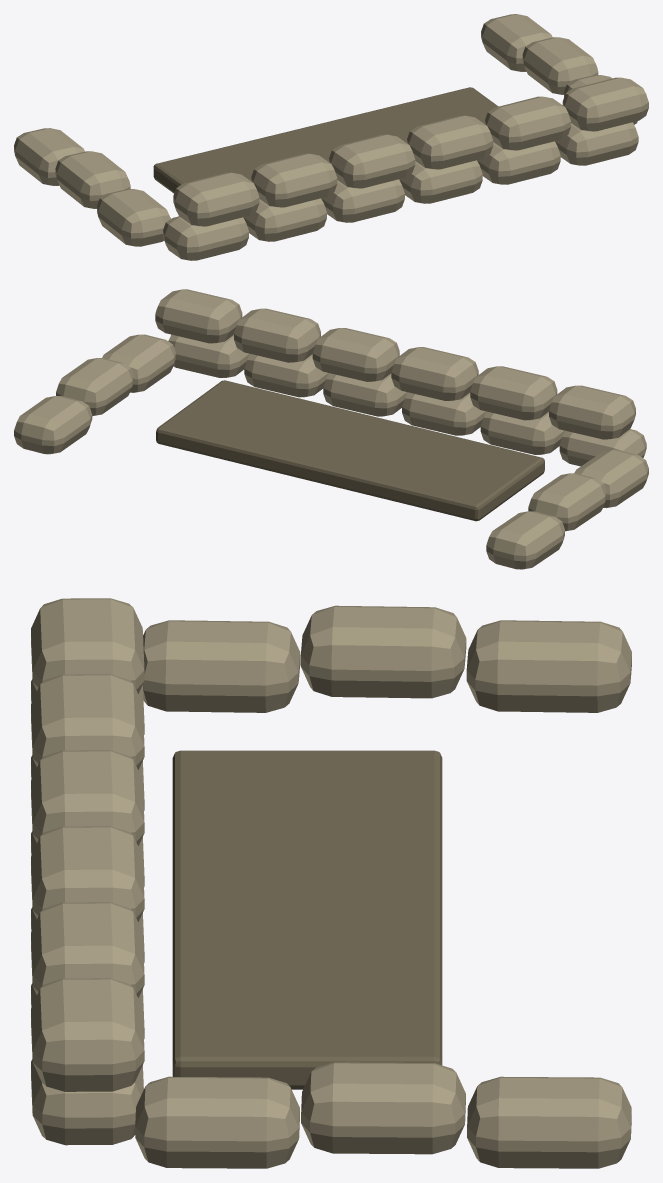
Rendered from ff_sbg_01_v1.glb.
3 views of the same model, one above another, from view 1: azimuth 30°, elevation 25°; view 2: azimuth 150°, elevation 25°; view 3: azimuth 270°, elevation 25° (orthographic). The views are drawn at different scales.
Visible parts, largest first — view 1: firing_step, front_bag_1_0, front_bag_1_2, front_bag_1_3, front_bag_1_5, front_bag_1_1, front_bag_1_4, left_bag_0, right_bag_1, left_bag_1, front_bag_0_0, front_bag_0_5 (+7 smaller); view 2: firing_step, front_bag_1_0, front_bag_1_5, front_bag_1_1, front_bag_1_3, front_bag_1_2, front_bag_1_4, left_bag_2, right_bag_2, left_bag_1, right_bag_1, front_bag_0_4 (+7 smaller); view 3: firing_step, left_bag_1, left_bag_2, right_bag_2, right_bag_0, right_bag_1, left_bag_0, front_bag_1_5, front_bag_1_0, front_bag_1_1, front_bag_1_2, front_bag_1_3 (+2 smaller).
Boxes of the visible parts, x1,y1,x2,y2 form: firing_step: (153, 87, 498, 193); front_bag_1_0: (173, 172, 259, 226); front_bag_1_2: (329, 134, 415, 188); front_bag_1_3: (407, 115, 493, 169); front_bag_1_5: (562, 77, 648, 131); front_bag_1_1: (251, 153, 337, 207); front_bag_1_4: (485, 96, 570, 150); left_bag_0: (97, 189, 170, 246); right_bag_1: (522, 37, 598, 94); left_bag_1: (55, 151, 130, 208); front_bag_0_0: (163, 216, 248, 260); front_bag_0_5: (555, 122, 638, 165); firing_step: (156, 380, 544, 521); front_bag_1_0: (549, 385, 635, 439); front_bag_1_5: (155, 289, 242, 343); front_bag_1_1: (470, 366, 557, 420); front_bag_1_3: (312, 328, 399, 381); front_bag_1_2: (391, 347, 478, 400); front_bag_1_4: (234, 308, 320, 362); left_bag_2: (486, 511, 564, 569); right_bag_2: (14, 396, 92, 454); left_bag_1: (528, 473, 606, 531); right_bag_1: (56, 358, 133, 416); front_bag_0_4: (244, 354, 328, 397); firing_step: (172, 750, 442, 1089); left_bag_1: (300, 605, 466, 698); left_bag_2: (466, 620, 631, 712); right_bag_2: (467, 1076, 631, 1168); right_bag_0: (135, 1076, 299, 1168); right_bag_1: (301, 1062, 465, 1154); left_bag_0: (143, 620, 300, 712); front_bag_1_5: (31, 978, 144, 1091); front_bag_1_0: (31, 598, 144, 693); front_bag_1_1: (31, 674, 144, 769); front_bag_1_2: (31, 750, 144, 845); front_bag_1_3: (31, 826, 144, 921).
Size of the model in its own units: 5.97 by 0.75 by 3.01.
